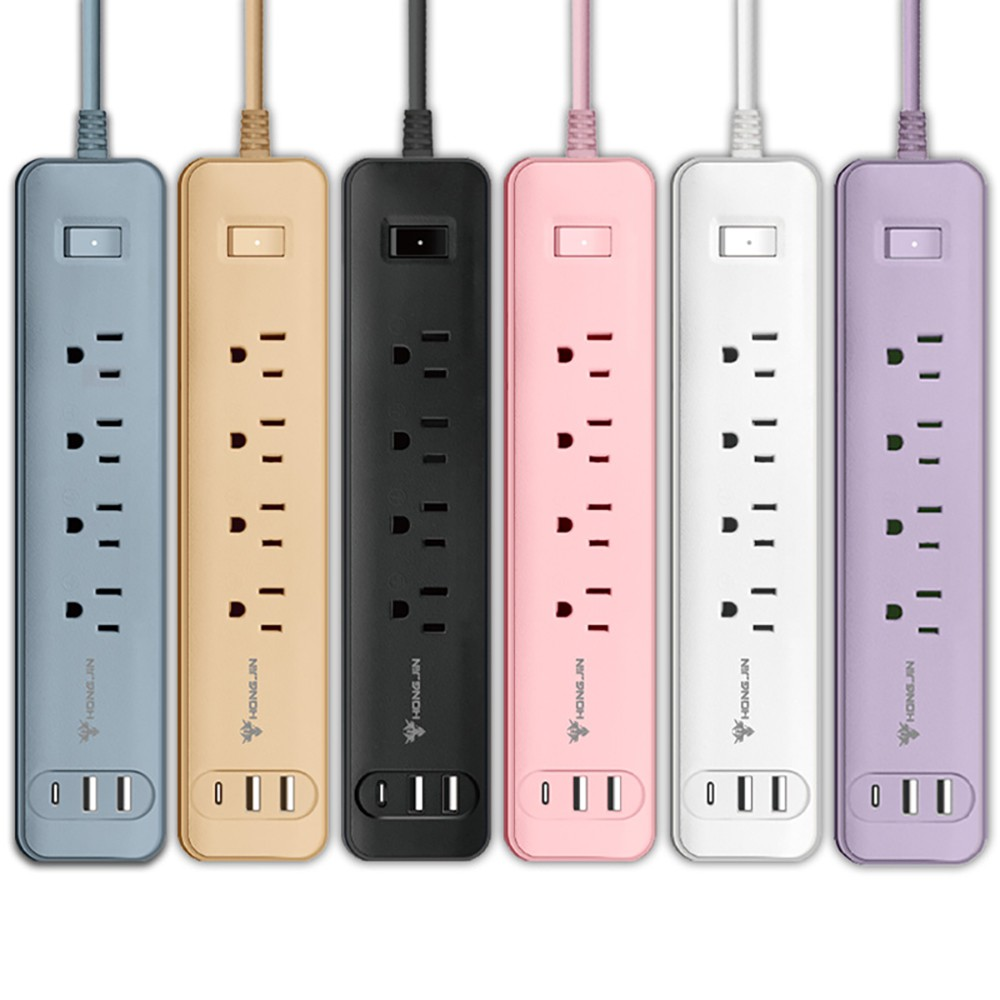socket: (14, 108, 165, 865), (505, 111, 657, 863), (671, 110, 822, 864), (178, 110, 328, 864), (836, 113, 986, 863), (342, 111, 489, 861)
